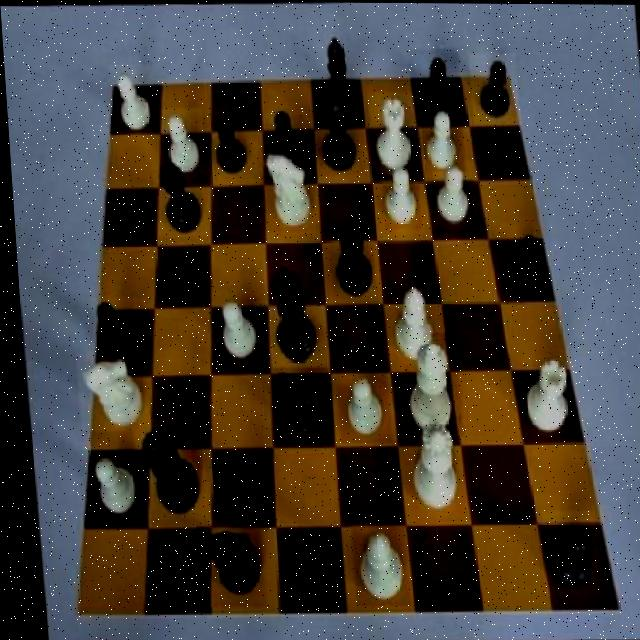bishop: (310, 86, 365, 176), (311, 28, 360, 116)
black-bishop: (260, 260, 325, 367)
black-king: (191, 524, 260, 607), (267, 366, 328, 449)
black-knight: (533, 509, 593, 595), (408, 47, 463, 123), (214, 446, 267, 519), (500, 226, 550, 302), (87, 297, 139, 367), (202, 110, 251, 184), (469, 52, 520, 123), (264, 108, 310, 179)
black-pawn: (126, 418, 203, 519)
black-queen: (325, 217, 376, 305), (150, 159, 206, 236)
black-rook: (382, 281, 442, 366), (343, 523, 403, 607)
white-bishop: (397, 331, 459, 436)
white-king: (71, 353, 145, 432), (255, 146, 316, 230)
white-knight: (329, 369, 386, 443), (82, 450, 137, 523), (206, 296, 259, 361), (158, 107, 205, 178), (108, 65, 154, 136), (428, 159, 475, 224), (419, 104, 463, 171), (379, 162, 419, 229)
white-pawn: (398, 411, 459, 514)
white-queen: (512, 340, 570, 443), (366, 91, 418, 175)
